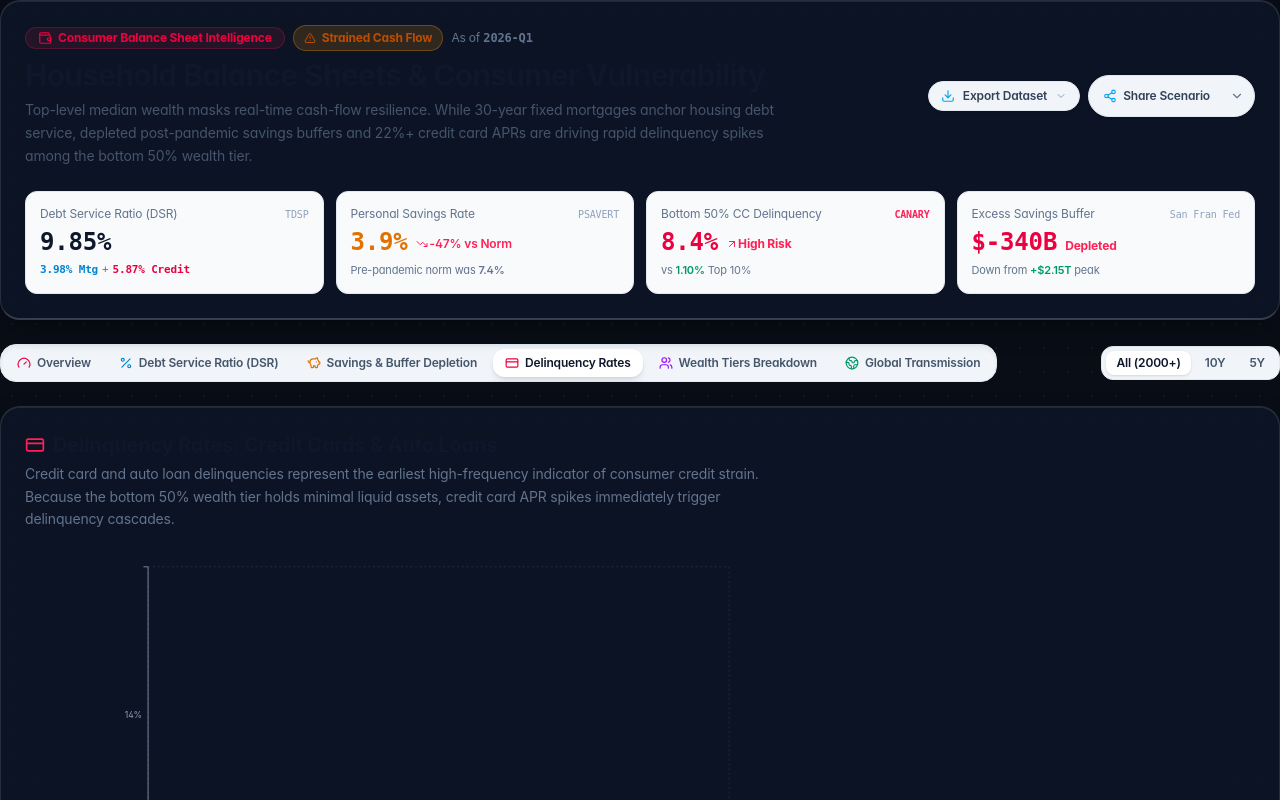
Test: HouseholdVulnerabilityRadar Component › switches to Wealth Tiers Breakdown view and toggles tiers
Step 1. Click the button "Wealth Tiers Breakdown" → x=738, y=363, box [647,349,829,377]
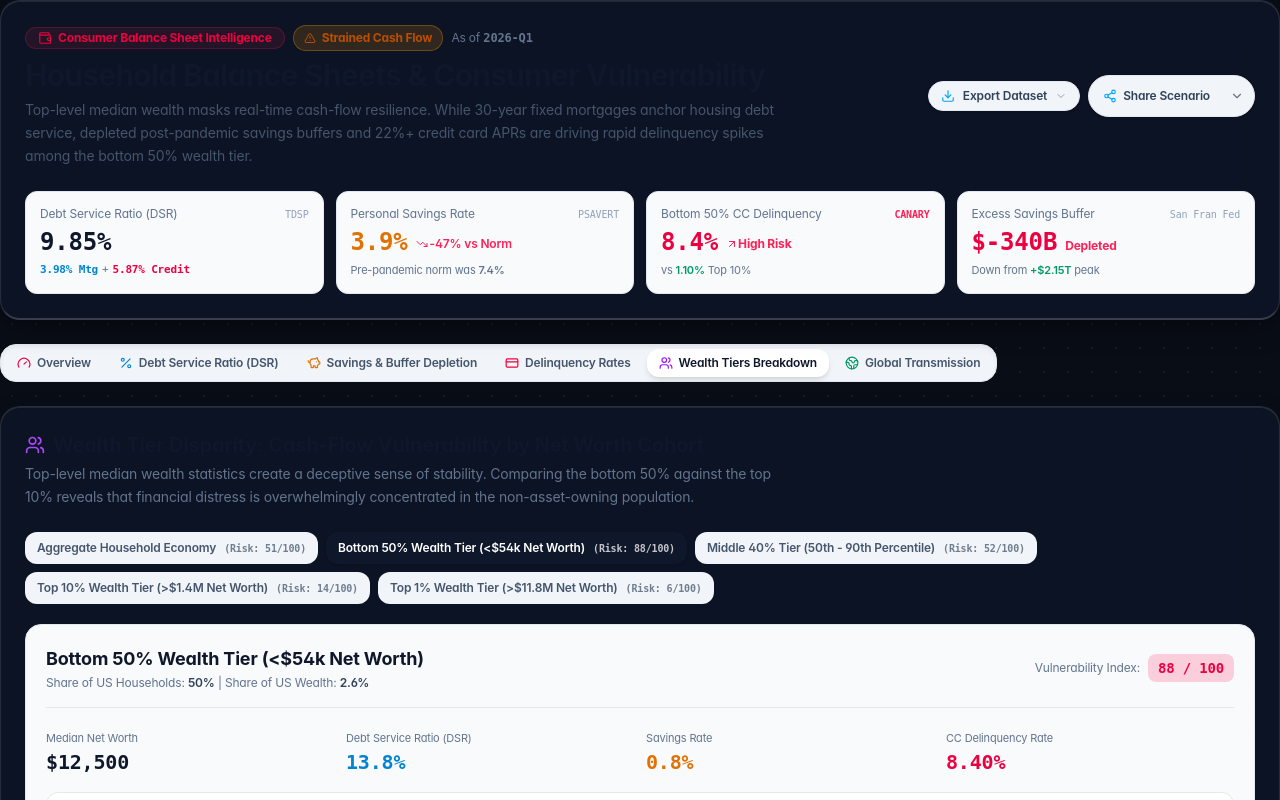
Note: Switch to Top 10% tier
Step 2. Click the button "Top 10% Wealth Tier (>$1.4M Net Worth) (Risk: 14/100)" → x=198, y=588, box [25,572,370,604]
(page scrolled)
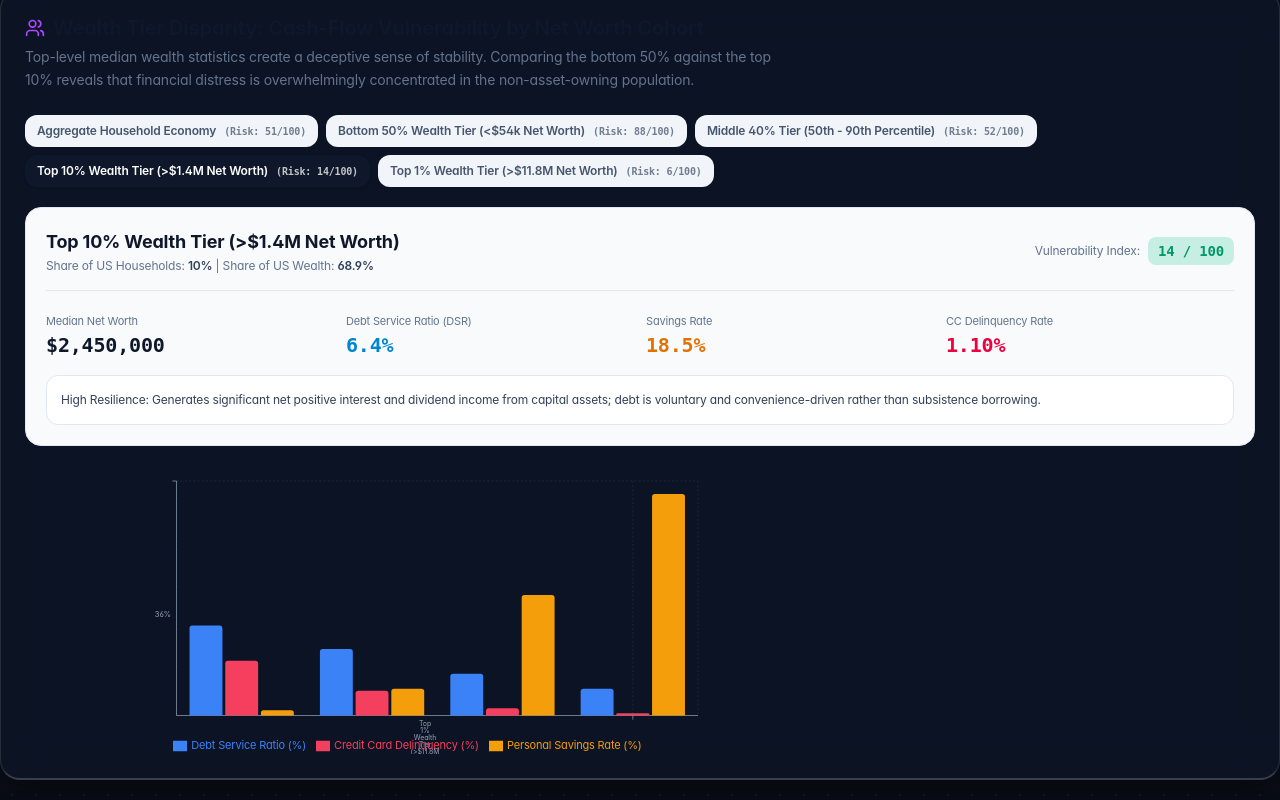
expect the text "Generates significant net positive interest" is shown: met, box [61,392,1041,407]
